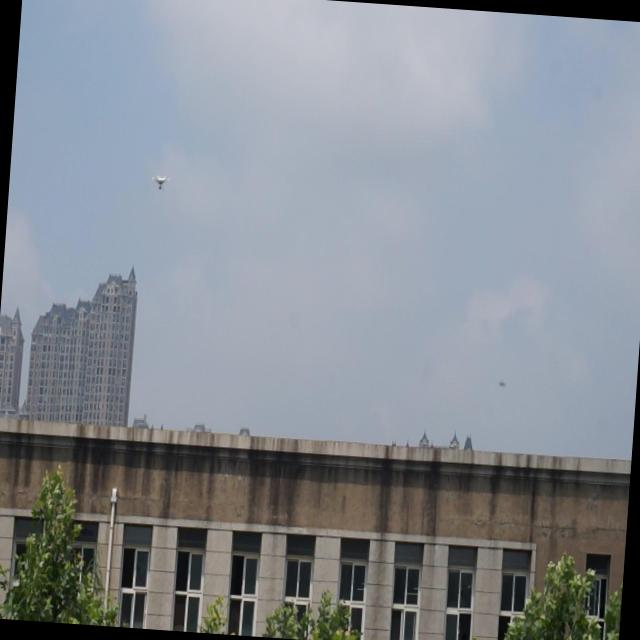drone: (150, 168, 172, 200)
